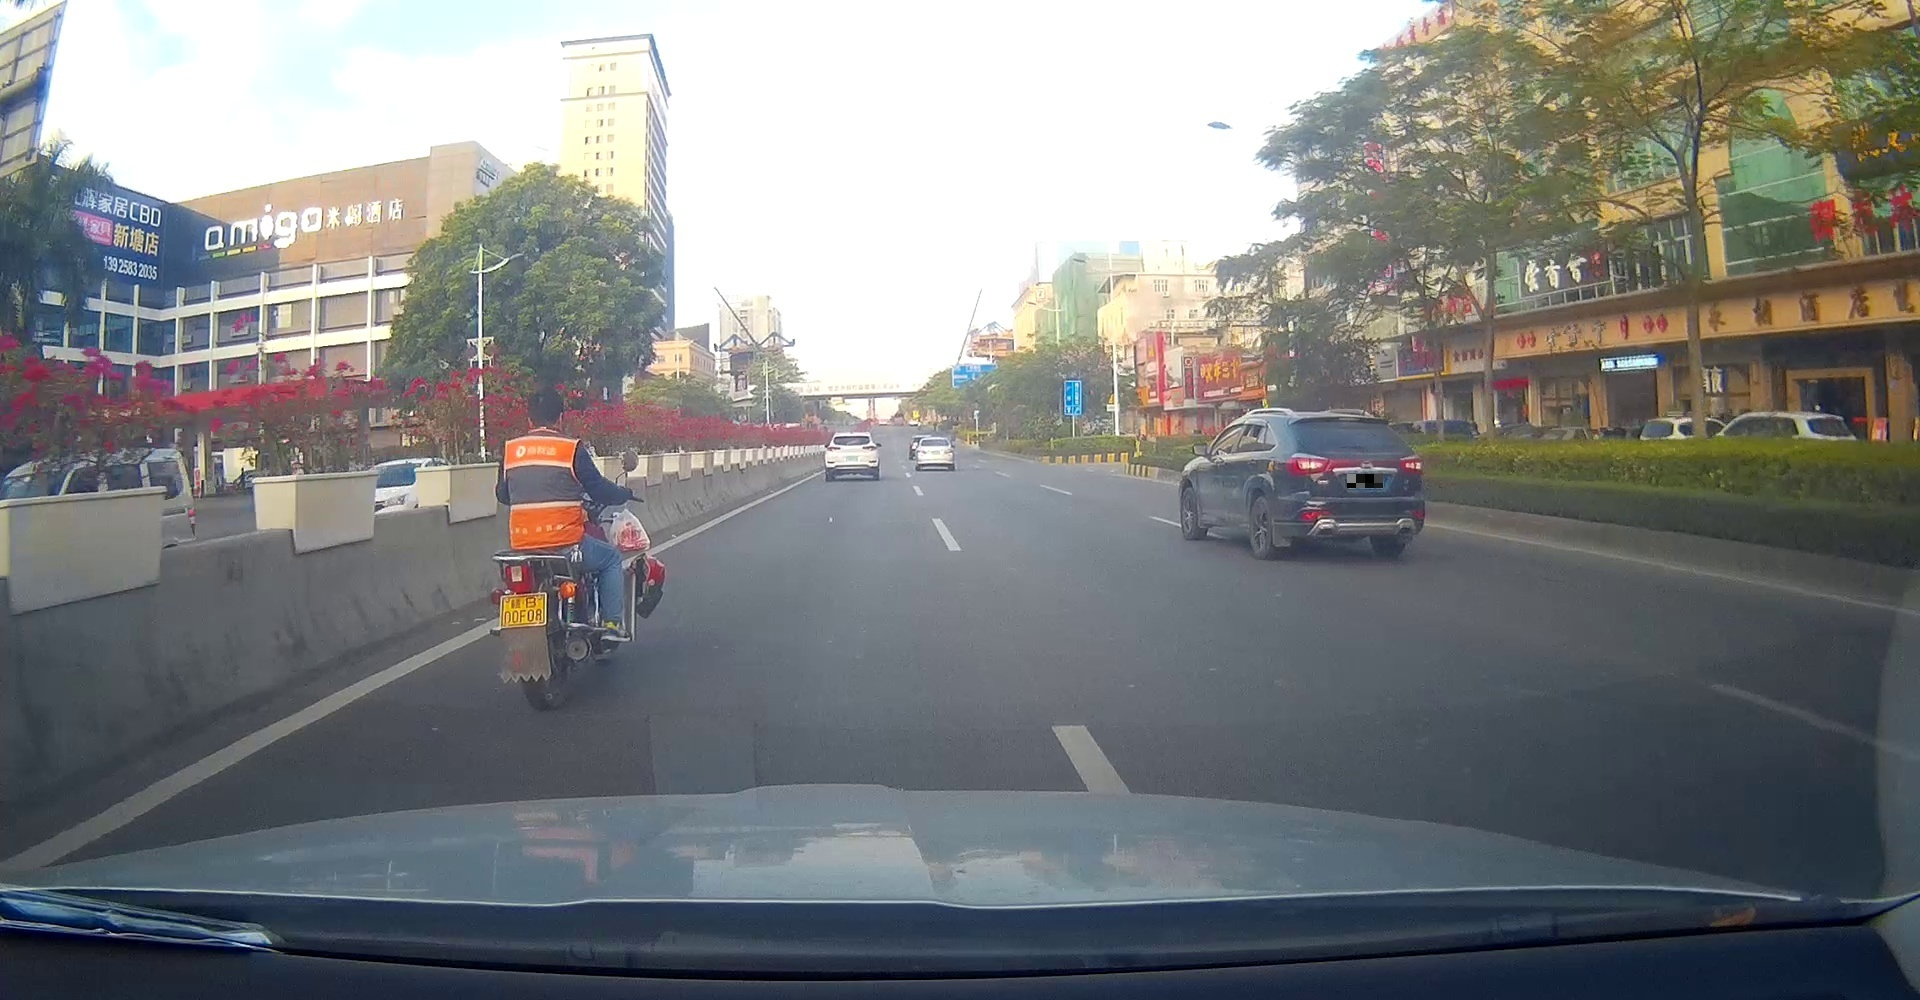L_light: (1286, 453, 1330, 475), (825, 447, 841, 451), (916, 451, 926, 454)
R_light: (1399, 456, 1422, 475), (862, 445, 877, 451), (943, 449, 954, 454)
T_light: (1333, 421, 1355, 426), (847, 437, 856, 438), (931, 440, 938, 442)
day-no: (1284, 411, 1423, 558), (825, 431, 879, 481), (916, 437, 954, 471)
plate_1: (1347, 475, 1383, 489)
